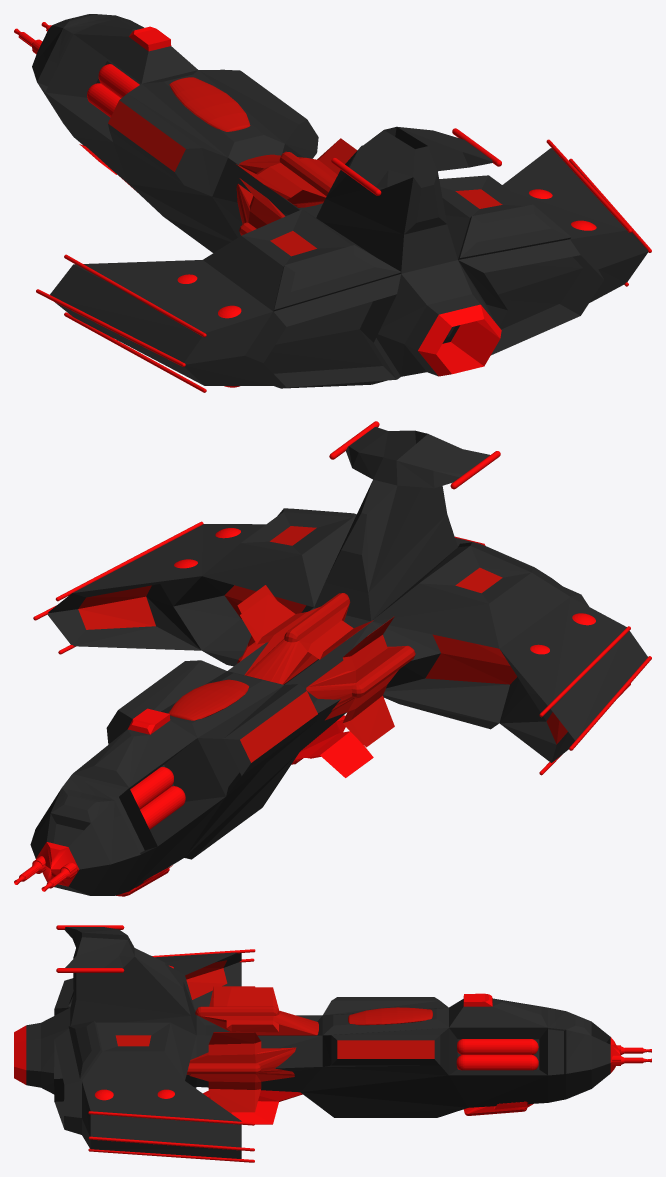
The model's file is ennemiPetit.fbx.
3 views of the same model, one above another, from view 1: azimuth 30°, elevation 25°; view 2: azimuth 150°, elevation 25°; view 3: azimuth 270°, elevation 25° (orthographic). The views are drawn at different scales.
Visible parts, largest first — view 1: VaisseauPetit; view 2: VaisseauPetit; view 3: VaisseauPetit.
Boxes of the visible parts, x1,y1,x2,y2 form: VaisseauPetit: (14,14,651,392); VaisseauPetit: (14,421,651,896); VaisseauPetit: (14,925,651,1162).
Size of the model in its own units: 3.61 by 5.1 by 1.58.
